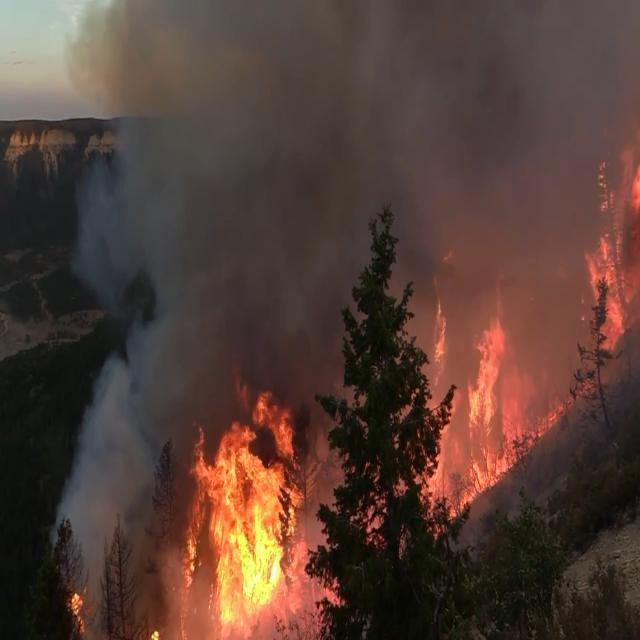Fire: (172, 125, 640, 640)
